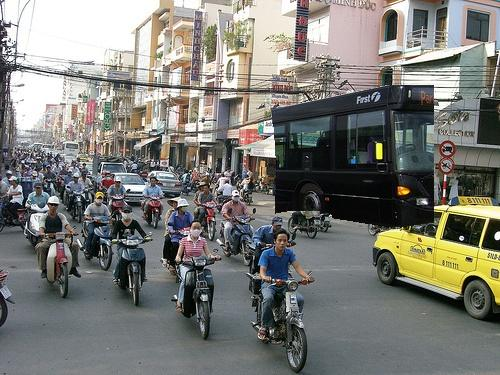tampered: (272, 86, 434, 227)
